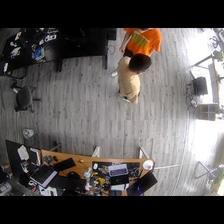normal: (119, 53, 151, 104)
